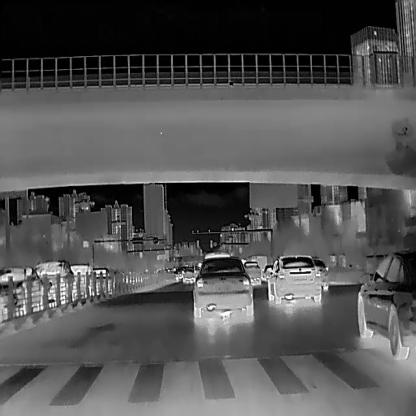car: (357, 251, 415, 359), (192, 256, 254, 321), (267, 254, 321, 302), (0, 265, 45, 315), (34, 260, 73, 304), (70, 263, 92, 298), (92, 266, 110, 293), (313, 258, 328, 290), (243, 260, 261, 284), (182, 268, 196, 282), (204, 251, 230, 258), (262, 264, 272, 280)
